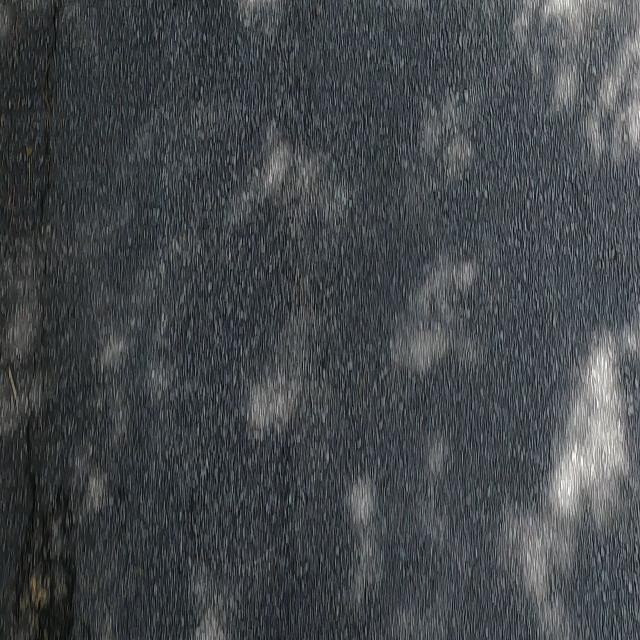Retak-Memanjang: (12, 0, 60, 579)
